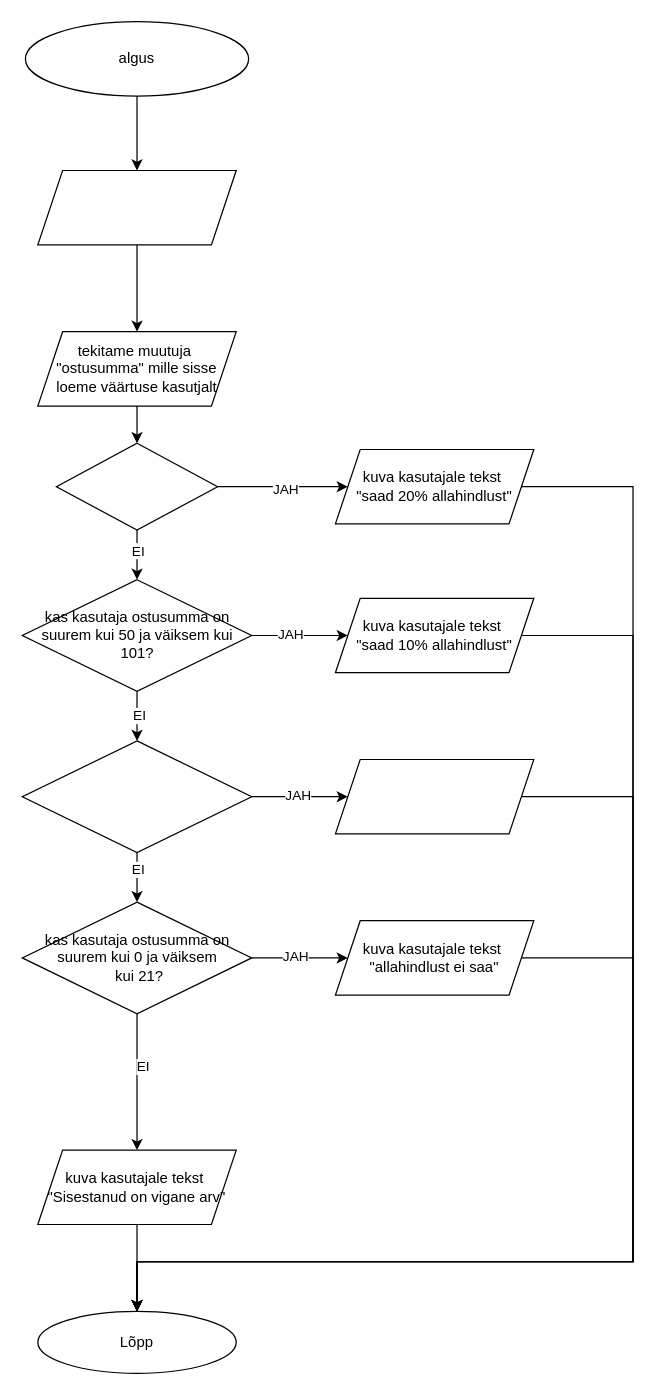
This 665x1395 diagram has some shape labels left out. Each missing label, with the centre of its shape:
kas kasutaja ostusumma on suurem kui 20 ja väiksem kui 51?: point 136,796
kas kasutaja ostusumma on suurem kui100?: point 136,486
kuva kasutajale tekst "saad 5% allahindlust": point 434,796
kuva kasutajale tekst "sisesta ostusumma": point 136,207
